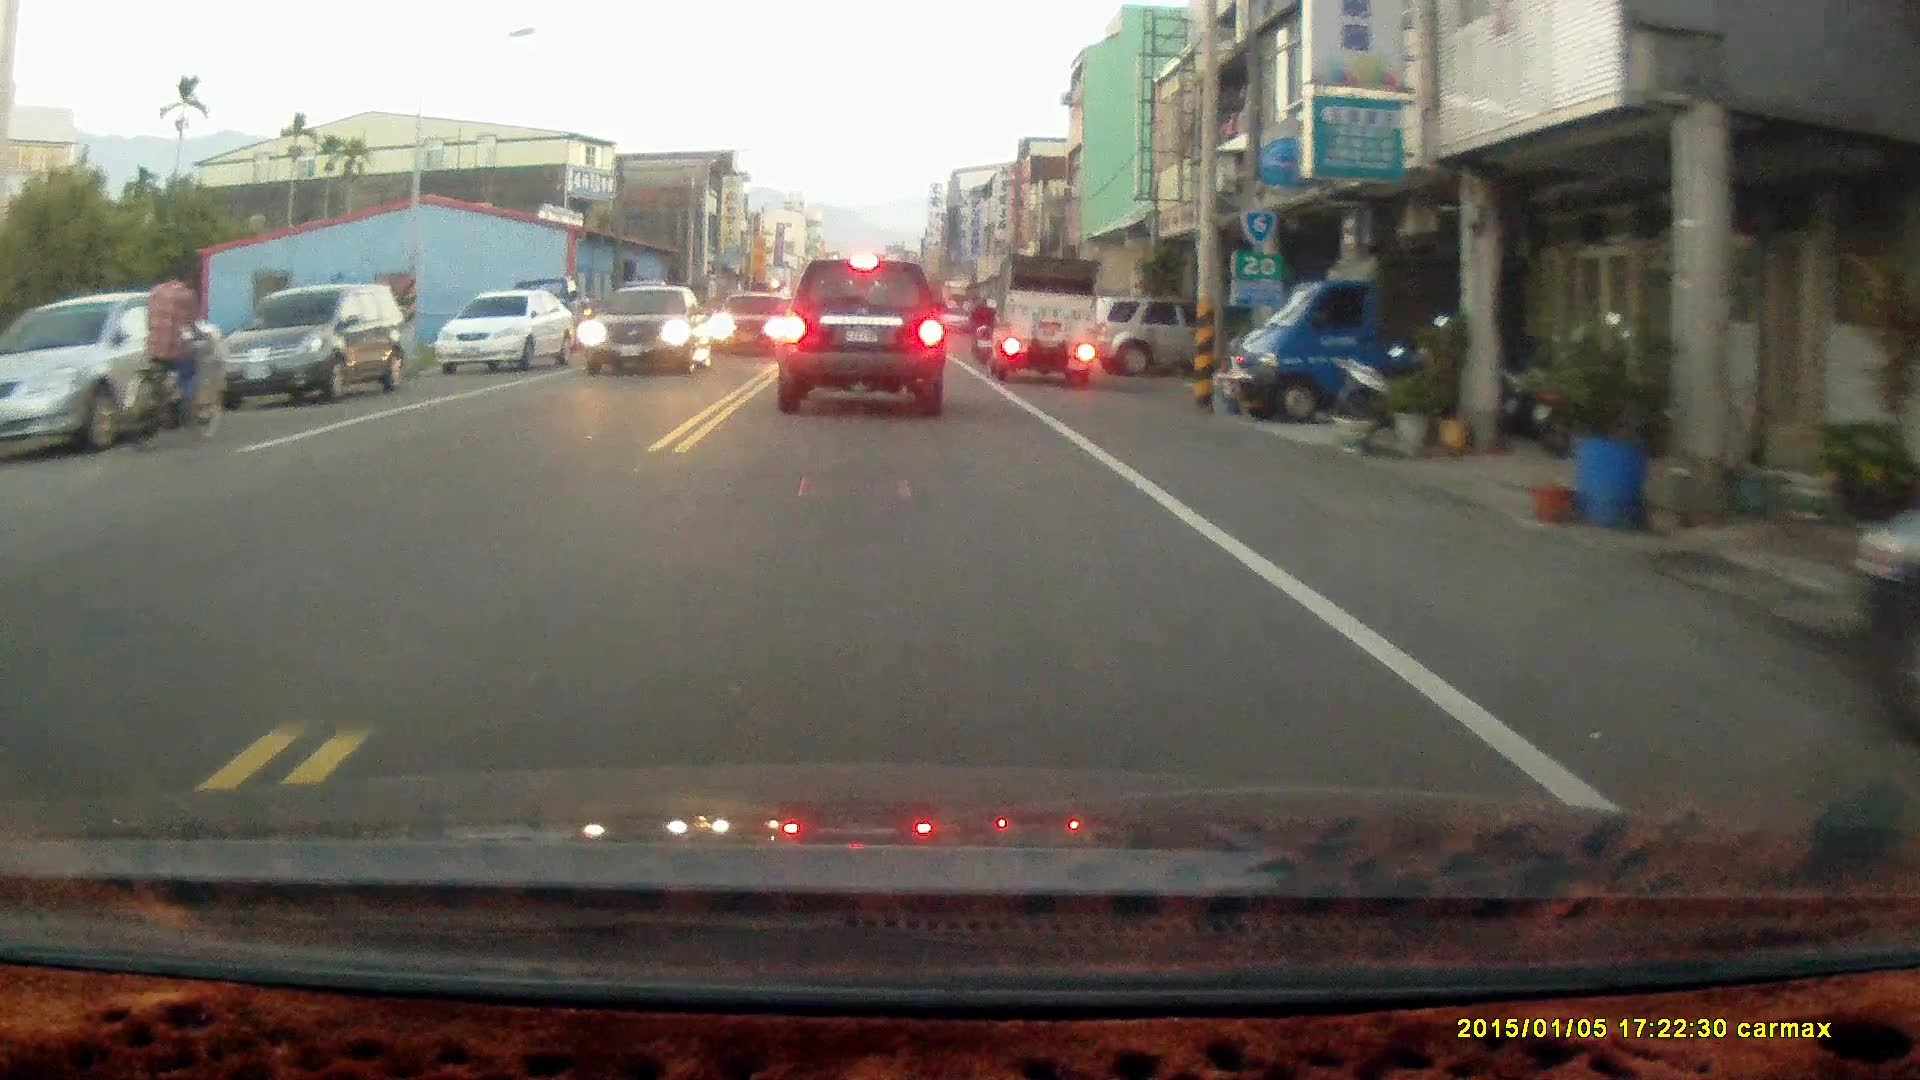rider: (121, 254, 223, 452), (966, 283, 1001, 362)
vehicle: (1238, 225, 1466, 424), (1, 291, 242, 456), (776, 255, 948, 416), (208, 279, 415, 406), (995, 251, 1100, 382), (439, 286, 583, 372), (584, 280, 710, 374), (1094, 289, 1195, 376), (713, 287, 793, 354)
